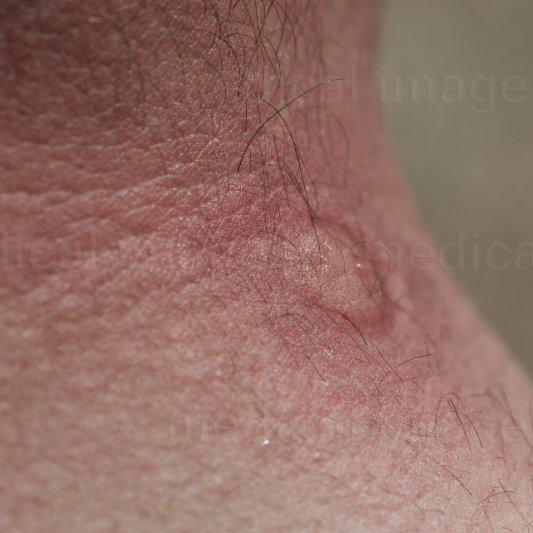Mosquito: (256, 193, 433, 354)
